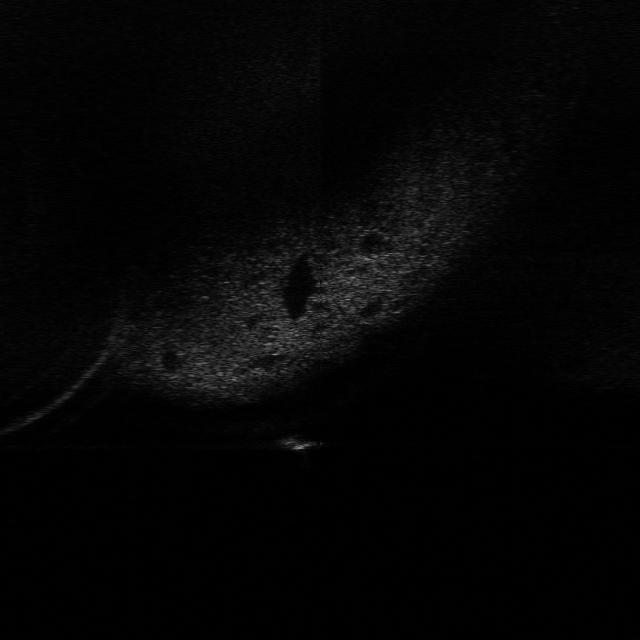cube: (264, 429, 324, 456)
